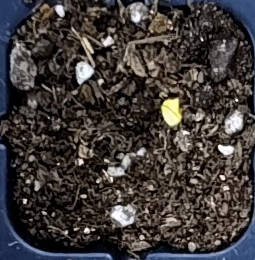pepper seed: (67, 32, 250, 161)
